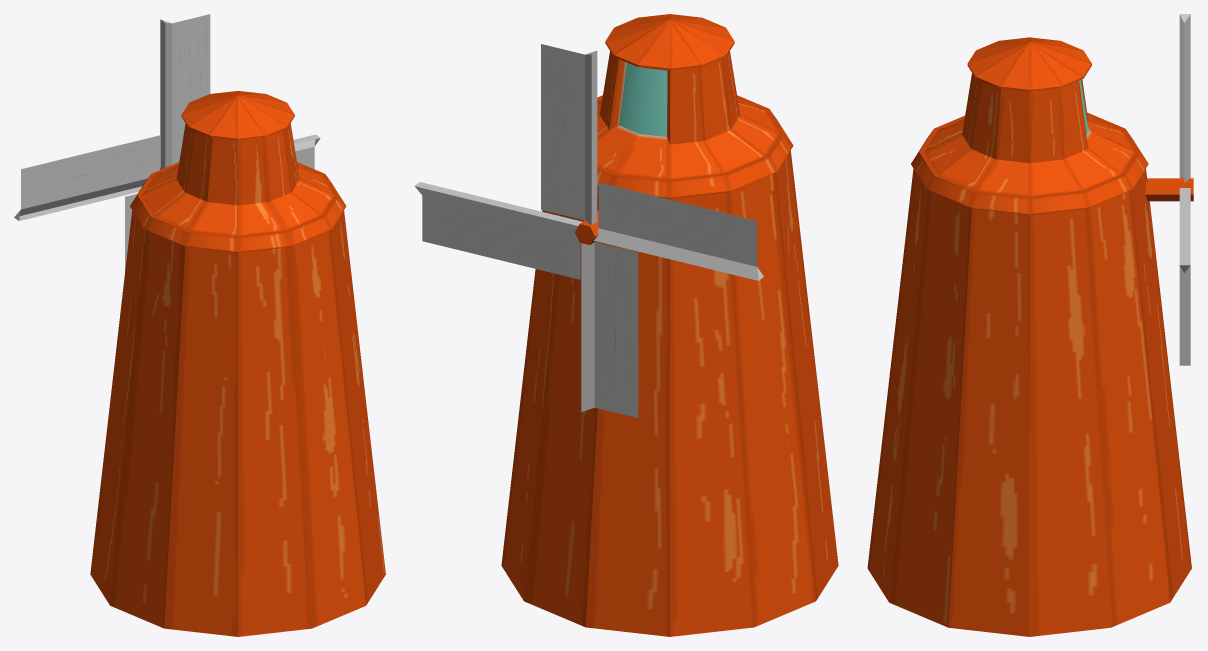
File: Windmill LVL1.fbx
3 views of the same model, side by side, from view 1: azimuth 30°, elevation 25°; view 2: azimuth 150°, elevation 25°; view 3: azimuth 270°, elevation 25° (orthographic). The views are drawn at different scales.
Visible parts, largest first — view 1: Windmill_LVL1_Body, Windmill_LVL1_Blades; view 2: Windmill_LVL1_Body, Windmill_LVL1_Blades; view 3: Windmill_LVL1_Body, Windmill_LVL1_Blades.
Boxes of the visible parts, <box> form: Windmill_LVL1_Body: <box>90,91,385,636</box>; Windmill_LVL1_Blades: <box>14,14,320,271</box>; Windmill_LVL1_Body: <box>501,14,838,636</box>; Windmill_LVL1_Blades: <box>414,44,763,417</box>; Windmill_LVL1_Body: <box>867,37,1191,636</box>; Windmill_LVL1_Blades: <box>1145,14,1193,365</box>.
Size of the model in its own units: 3.76 by 5.99 by 3.21.
Materials: 1 (1 with a texture image).
